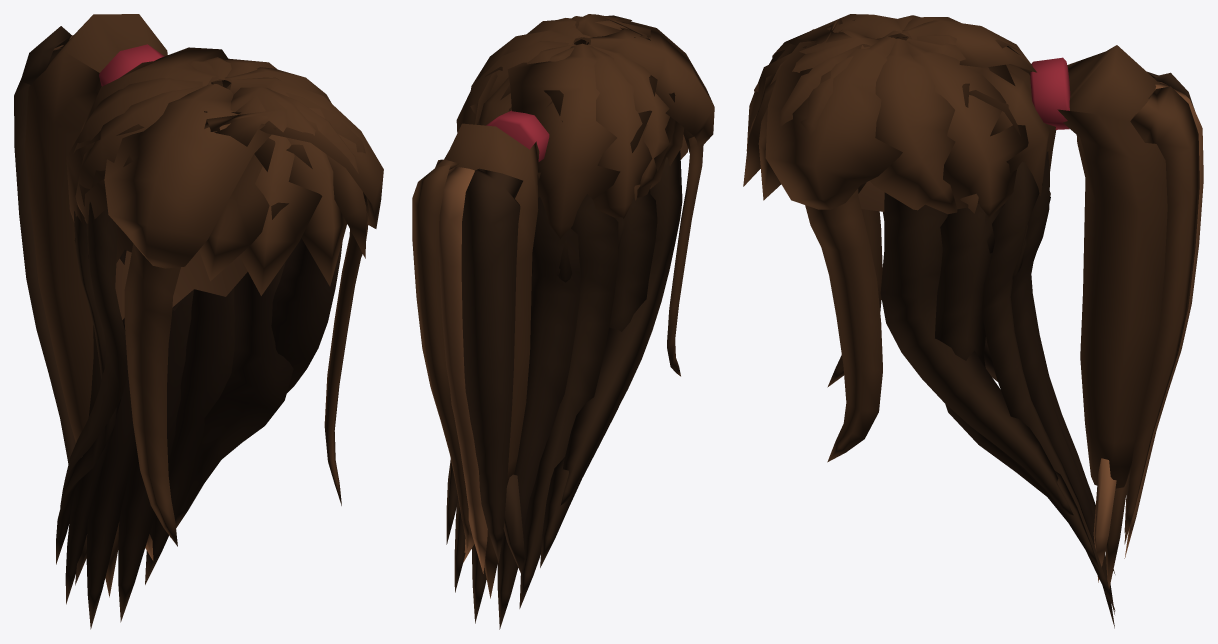
File: hair_f_longo_tight_f.glb
The picture shows the model from 3 angles, left to right: view 1: azimuth 30°, elevation 25°; view 2: azimuth 150°, elevation 25°; view 3: azimuth 270°, elevation 25°; orthographic projection. The views are drawn at different scales.
Parts seen in each view (by area): view 1: HairTop, HairLong, Ponytail, HairFrame, HairCap; view 2: Ponytail, HairLong, HairTop, HairFrame, HairUnder; view 3: HairTop, Ponytail, HairLong, HairFrame.
Part boxes in pixels (bbox=[...]): HairTop: bbox=[66, 47, 383, 295]; HairLong: bbox=[56, 202, 342, 629]; Ponytail: bbox=[14, 14, 167, 597]; HairFrame: bbox=[124, 212, 368, 546]; HairCap: bbox=[115, 225, 247, 319]; Ponytail: bbox=[412, 110, 549, 598]; HairLong: bbox=[446, 150, 682, 629]; HairTop: bbox=[456, 14, 714, 239]; HairFrame: bbox=[667, 136, 703, 376]; HairUnder: bbox=[532, 217, 624, 282]; HairTop: bbox=[743, 14, 1056, 217]; Ponytail: bbox=[1030, 45, 1203, 588]; HairLong: bbox=[880, 37, 1115, 628]; HairFrame: bbox=[805, 189, 882, 462].
Size of the model in its own units: 0.2125 by 0.5177 by 0.3647.
